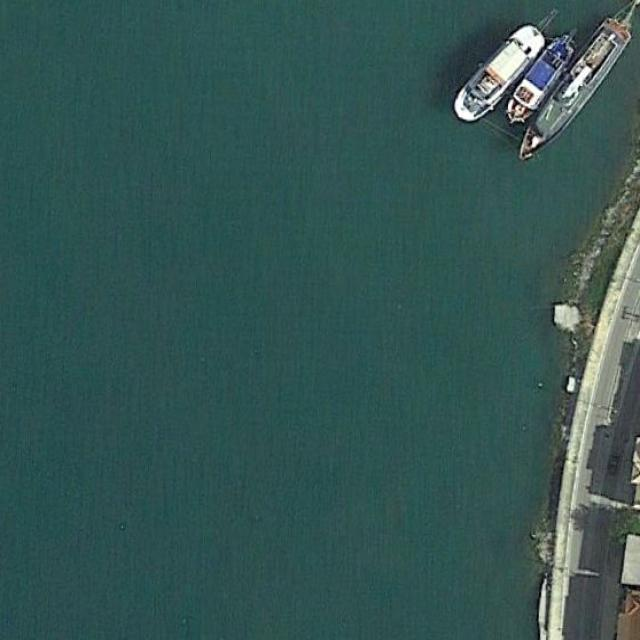ship: (518, 6, 636, 162), (454, 24, 546, 120), (506, 31, 578, 123)
